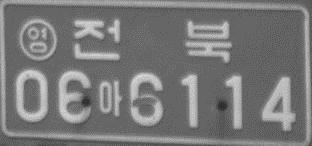0: (14, 68, 49, 123)
1: (217, 74, 255, 130), (175, 72, 210, 128)
4: (261, 76, 295, 132)
6: (57, 69, 92, 125), (129, 71, 164, 127)
아: (99, 79, 123, 117)
영: (17, 17, 57, 61)
전북_D: (71, 18, 231, 64)
